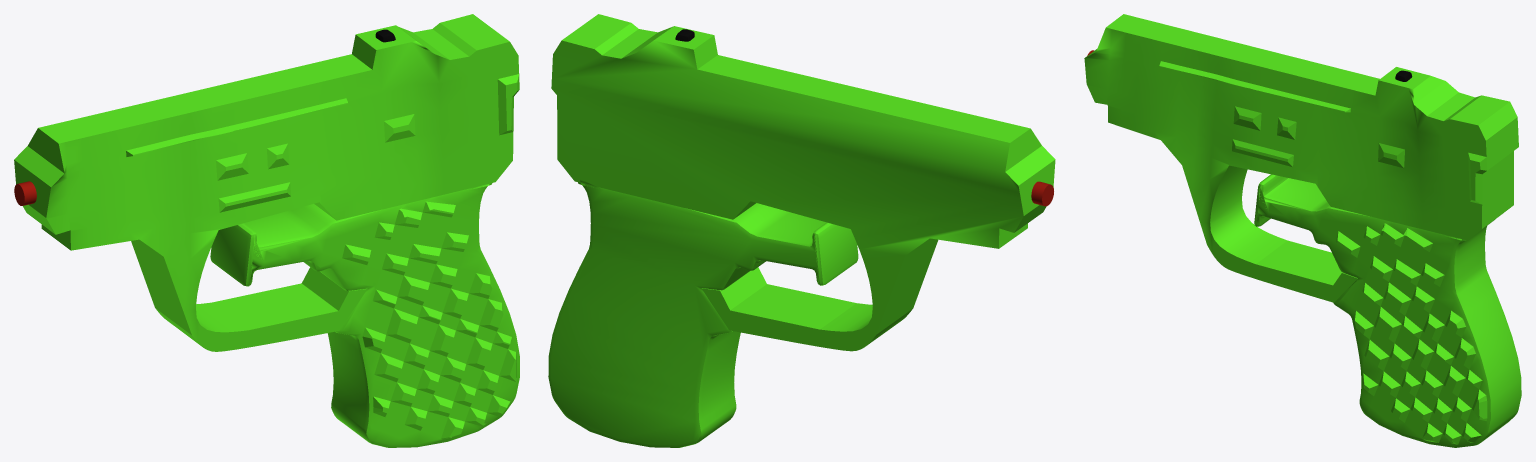
The model's file is PistolaAguaFinal.fbx.
3 views of the same model, side by side, from view 1: azimuth 30°, elevation 25°; view 2: azimuth 150°, elevation 25°; view 3: azimuth 330°, elevation 25° (orthographic). The views are drawn at different scales.
Parts seen in each view (by area): view 1: Pistola_LOD0; view 2: Pistola_LOD0; view 3: Pistola_LOD0.
Part boxes in pixels (left/top/right/bottom): Pistola_LOD0: left=14, top=14, right=519, bottom=447; Pistola_LOD0: left=548, top=14, right=1055, bottom=447; Pistola_LOD0: left=1084, top=14, right=1521, bottom=447.
Size of what is drawn, in the model's own units: 25.2 by 20.38 by 3.83.
